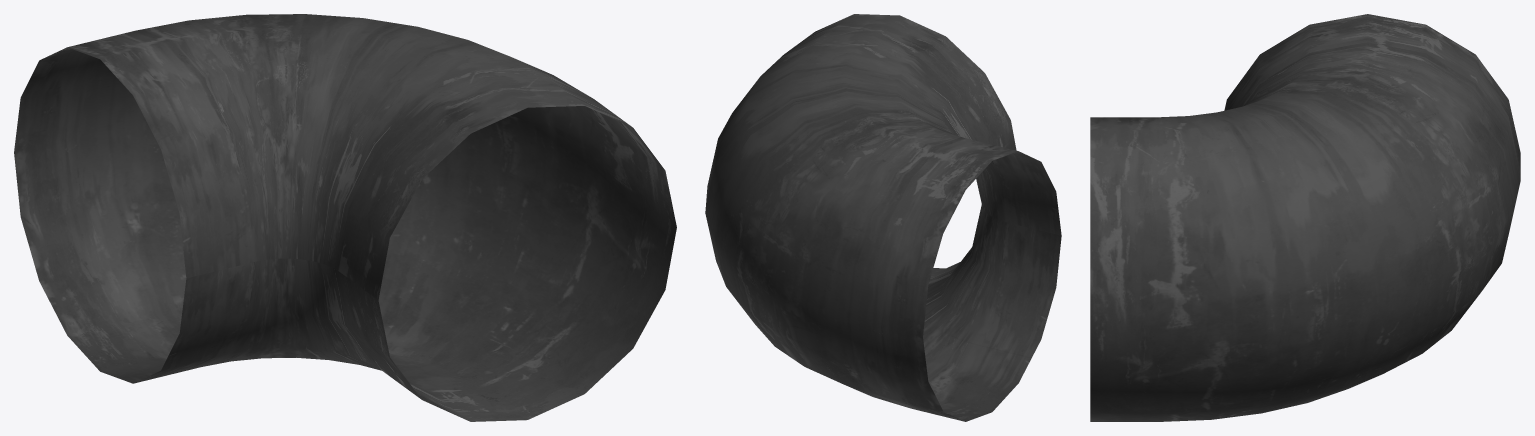
Rendered from pipe_003.fbx.
3 views of the same model, side by side, from view 1: azimuth 30°, elevation 25°; view 2: azimuth 150°, elevation 25°; view 3: azimuth 270°, elevation 25° (orthographic). The views are drawn at different scales.
Visible parts, largest first — view 1: pipe_003; view 2: pipe_003; view 3: pipe_003.
Boxes of the visible parts, <box> form: pipe_003: <box>14,14,676,421</box>; pipe_003: <box>705,14,1061,421</box>; pipe_003: <box>1090,14,1520,421</box>.
Size of the model in its own units: 1240 by 1240 by 881.
